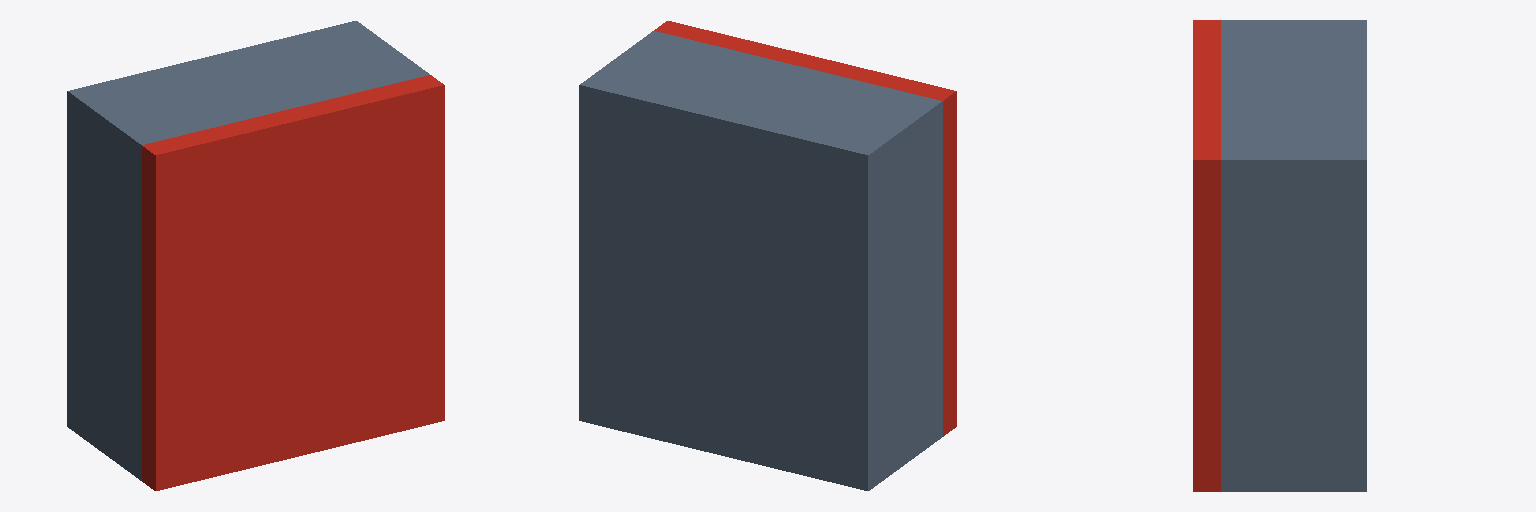
URDF robot description (cabinet_asset):
<?xml version='1.0' encoding='utf-8'?>
<robot name="cabinet_asset"><link name="cabinet"><visual><origin xyz="0 0 0" rpy="0 0 0" /><geometry><box size="0.36 0.16 0.4" /></geometry><material name="cabinet_material"><color rgba="0.42 0.48 0.55 1" /></material></visual><collision><origin xyz="0 0 0" rpy="0 0 0" /><geometry><box size="0.36 0.16 0.4" /></geometry></collision><inertial><mass value="0.2" /><inertia ixx="0.01" ixy="0" ixz="0" iyy="0.01" iyz="0" izz="0.01" /></inertial></link><link name="cabinet__door"><visual><origin xyz="0 0 0" rpy="0 0 0" /><geometry><box size="0.36 0.03 0.4" /></geometry><material name="cabinet__door_material"><color rgba="0.82 0.24 0.18 1" /></material></visual><collision><origin xyz="0 0 0" rpy="0 0 0" /><geometry><box size="0.36 0.03 0.4" /></geometry></collision><inertial><mass value="0.2" /><inertia ixx="0.01" ixy="0" ixz="0" iyy="0.01" iyz="0" izz="0.01" /></inertial></link><joint name="door_hinge" type="revolute"><parent link="cabinet" /><child link="cabinet__door" /><origin xyz="0 -0.095 0" rpy="0 0 0" /><axis xyz="0 0 1" /><limit lower="-1.2" upper="0.0" effort="10.0" velocity="2.0" /><dynamics damping="0.1" /></joint></robot>

--- Render facts (derived) ---
3 views of the same robot in one strip: view 1: azimuth 30°, elevation 25°; view 2: azimuth 150°, elevation 25°; view 3: azimuth 270°, elevation 25° (orthographic).
Model cabinet_asset with 2 links and 1 joints (1 revolute), rooted at cabinet, posed all joints at 0.
Visible links, largest first — view 1: cabinet__door, cabinet; view 2: cabinet, cabinet__door; view 3: cabinet, cabinet__door.
Link boxes in pixels (x1=…): cabinet__door: x1=142, y1=75, x2=444, y2=490; cabinet: x1=67, y1=21, x2=429, y2=480; cabinet: x1=579, y1=31, x2=942, y2=490; cabinet__door: x1=654, y1=21, x2=956, y2=436; cabinet: x1=1221, y1=20, x2=1366, y2=491; cabinet__door: x1=1193, y1=20, x2=1220, y2=491.
Bounding box of the posed robot: 0.36 × 0.19 × 0.4 m (x, y, z).
Geometry: primitives only (box / cylinder / sphere), no mesh files.
